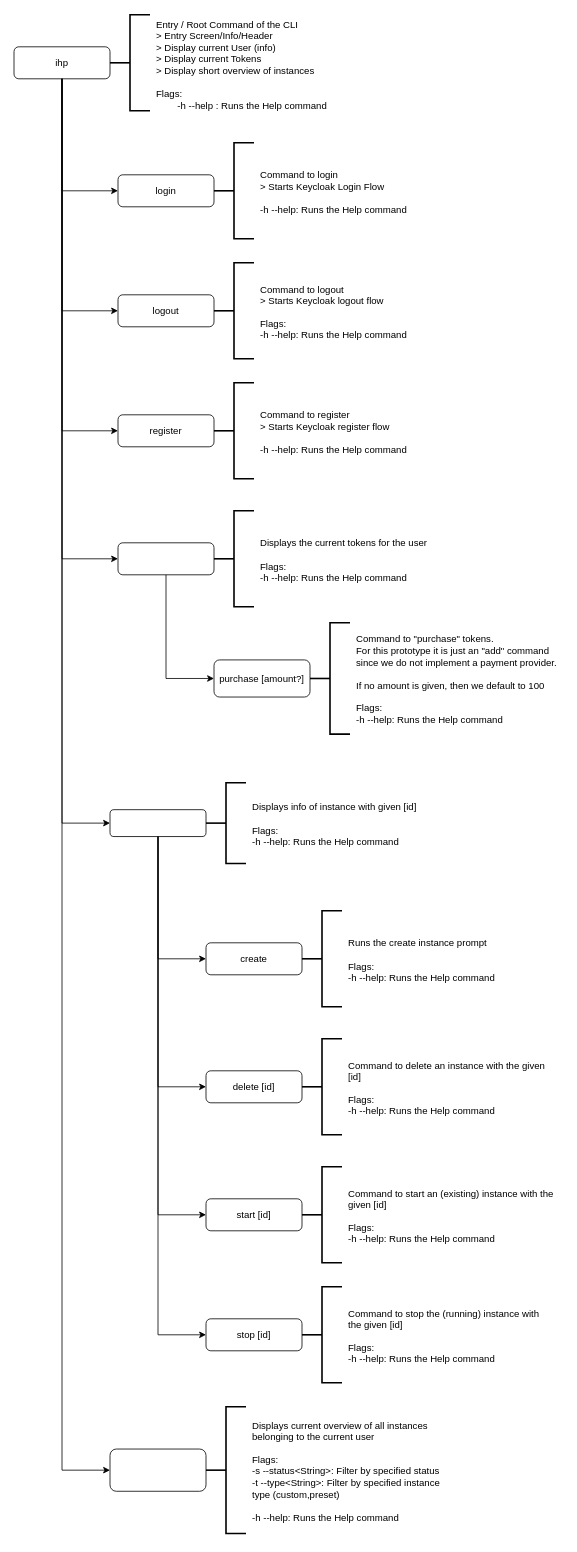
The diagram is 577 pixels wide and 1552 high, and some of its shapes have lost their labels. Here are the shapes that lost their labels. From the top down, the centre of each, then its label:
At pixel 165 558: "balance".
At pixel 157 823: "instance [id]".
At pixel 157 1469: "instances".
